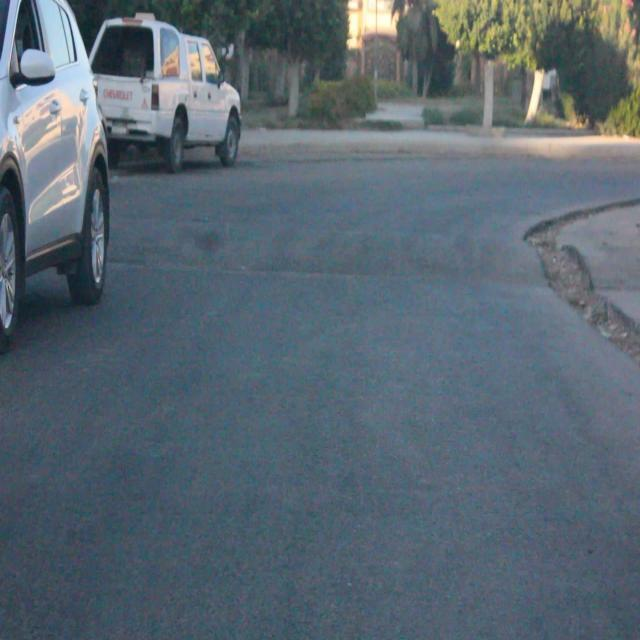NonMarked Bump: (128, 178, 547, 288)
